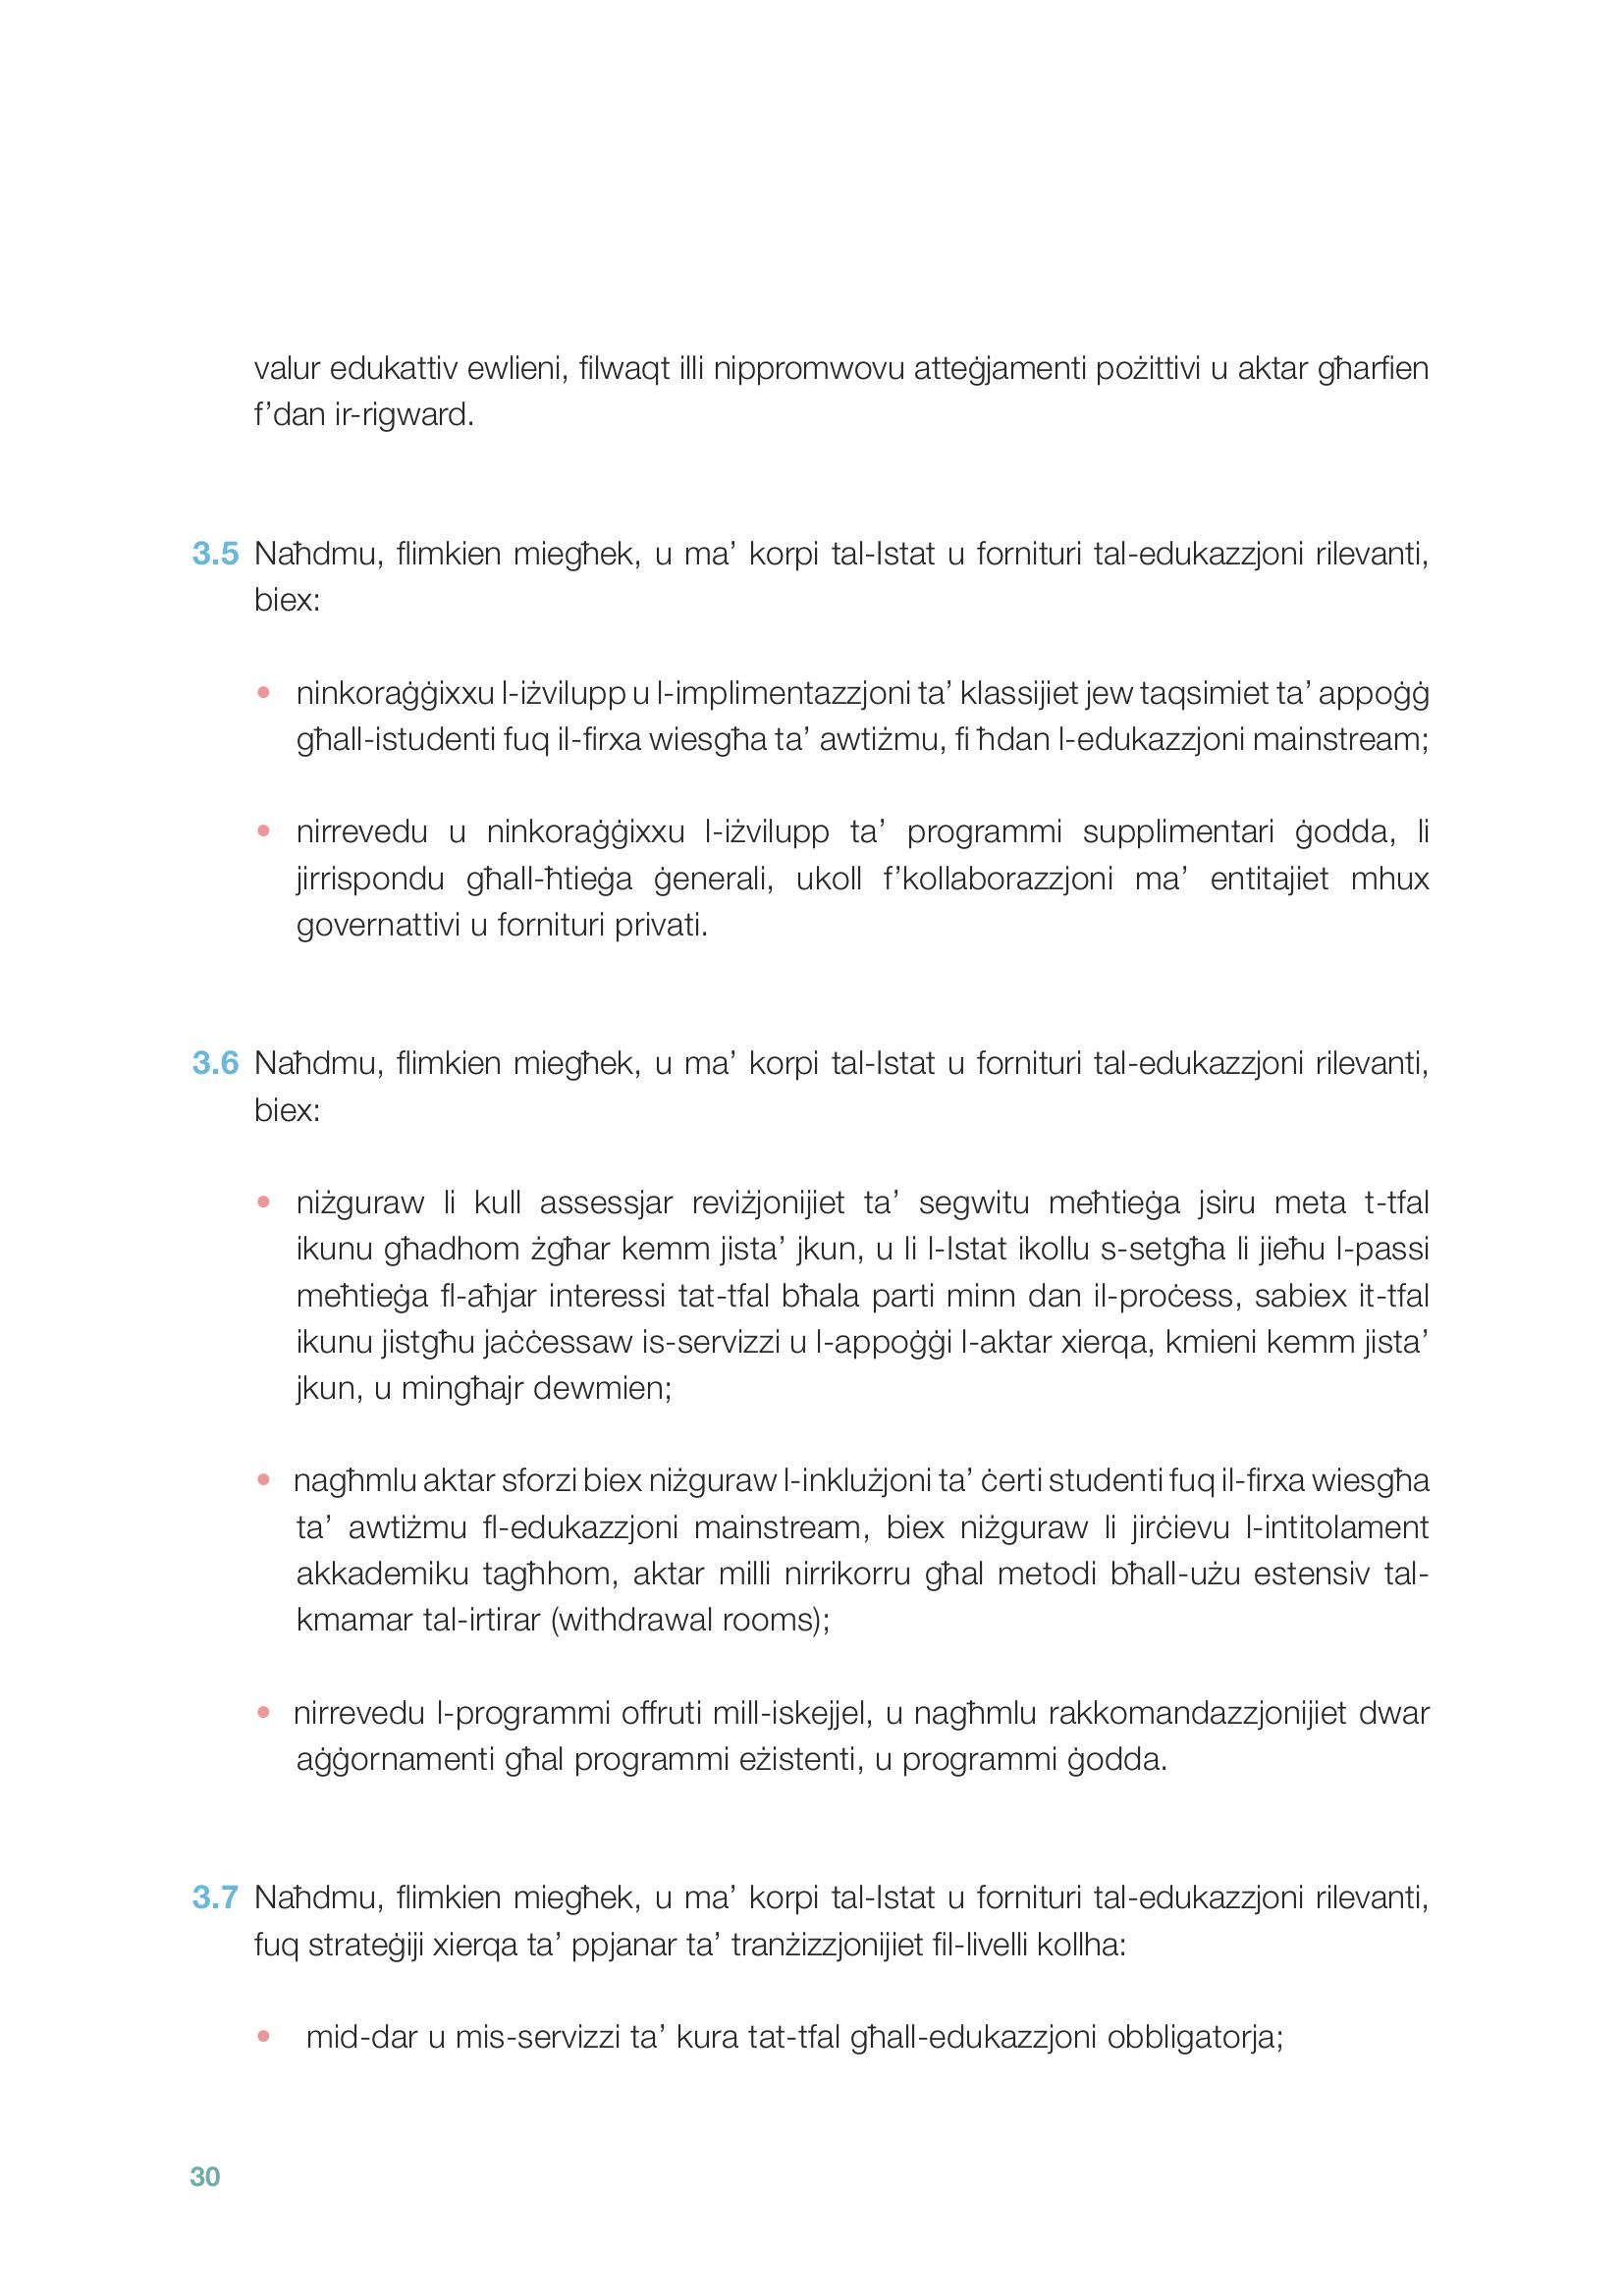text: (170, 327, 1441, 2082)
